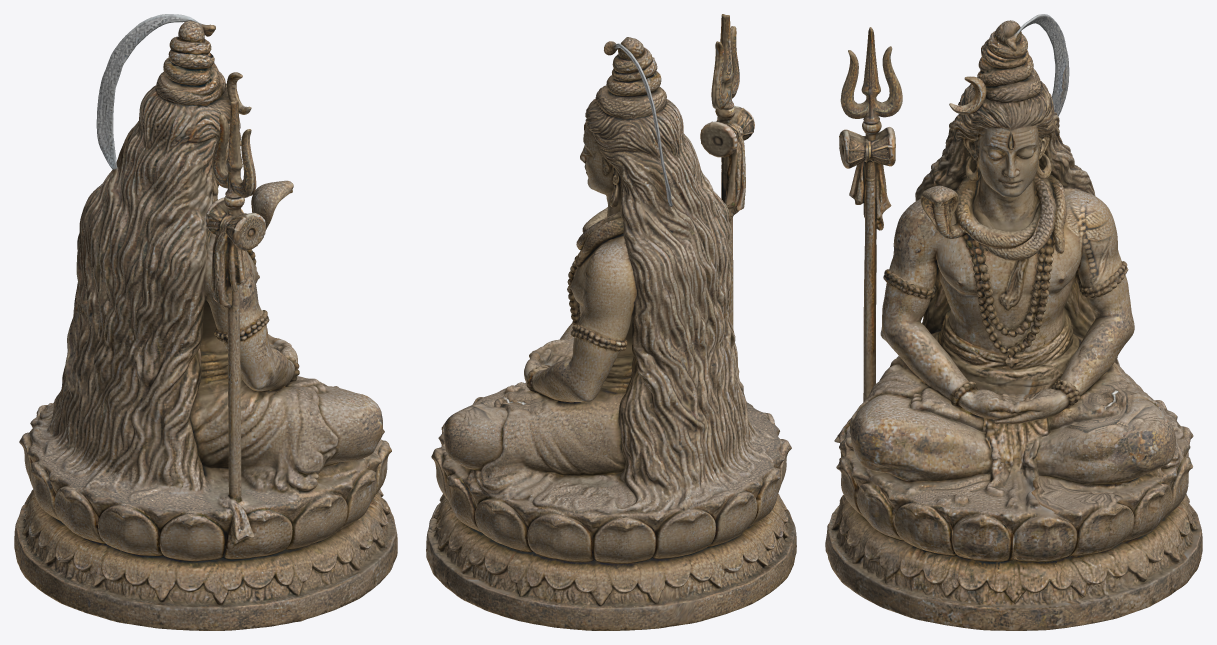
File: from-image-monumental-statue-of-lord-shi-cmviinx0.glb
3 renders of one model, left to right at view 1: azimuth 30°, elevation 25°; view 2: azimuth 150°, elevation 25°; view 3: azimuth 270°, elevation 25°, orthographic. The views are drawn at different scales.
Visible parts, largest first — view 1: tripo_node_bfb3547a-2720-484a-a8de-17fb459d223e; view 2: tripo_node_bfb3547a-2720-484a-a8de-17fb459d223e; view 3: tripo_node_bfb3547a-2720-484a-a8de-17fb459d223e.
Part boxes in pixels (box(x1,y1,x2,y2)): tripo_node_bfb3547a-2720-484a-a8de-17fb459d223e: box(14, 14, 397, 630); tripo_node_bfb3547a-2720-484a-a8de-17fb459d223e: box(426, 14, 796, 630); tripo_node_bfb3547a-2720-484a-a8de-17fb459d223e: box(825, 14, 1202, 630).
Bounding box in the file's own units: 0.6352 × 0.9787 × 0.6404.
1 material, 1 textured.
